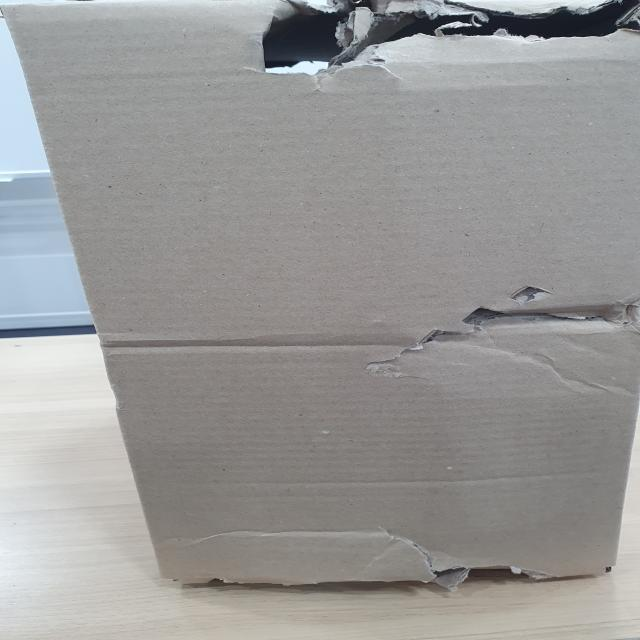hole: (246, 0, 640, 65), (416, 284, 640, 342), (190, 559, 548, 595)
